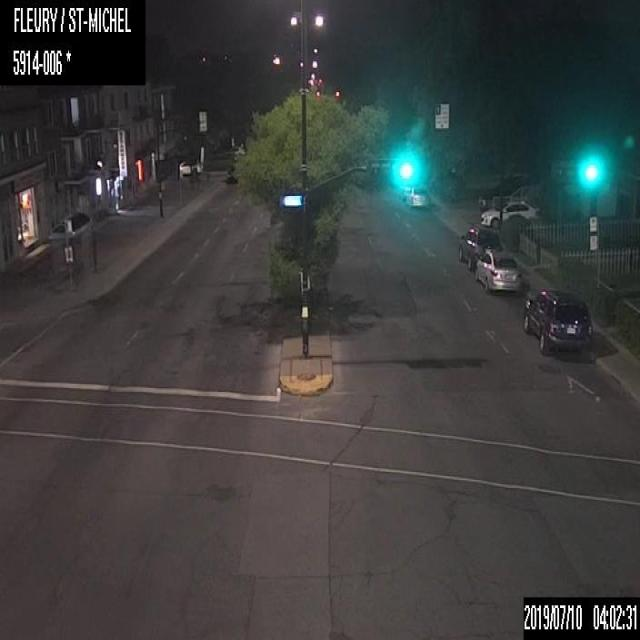vehicle: (523, 287, 592, 352), (475, 245, 522, 292), (458, 226, 500, 270), (478, 198, 538, 228), (176, 157, 203, 175), (407, 184, 428, 207), (226, 145, 244, 154)
